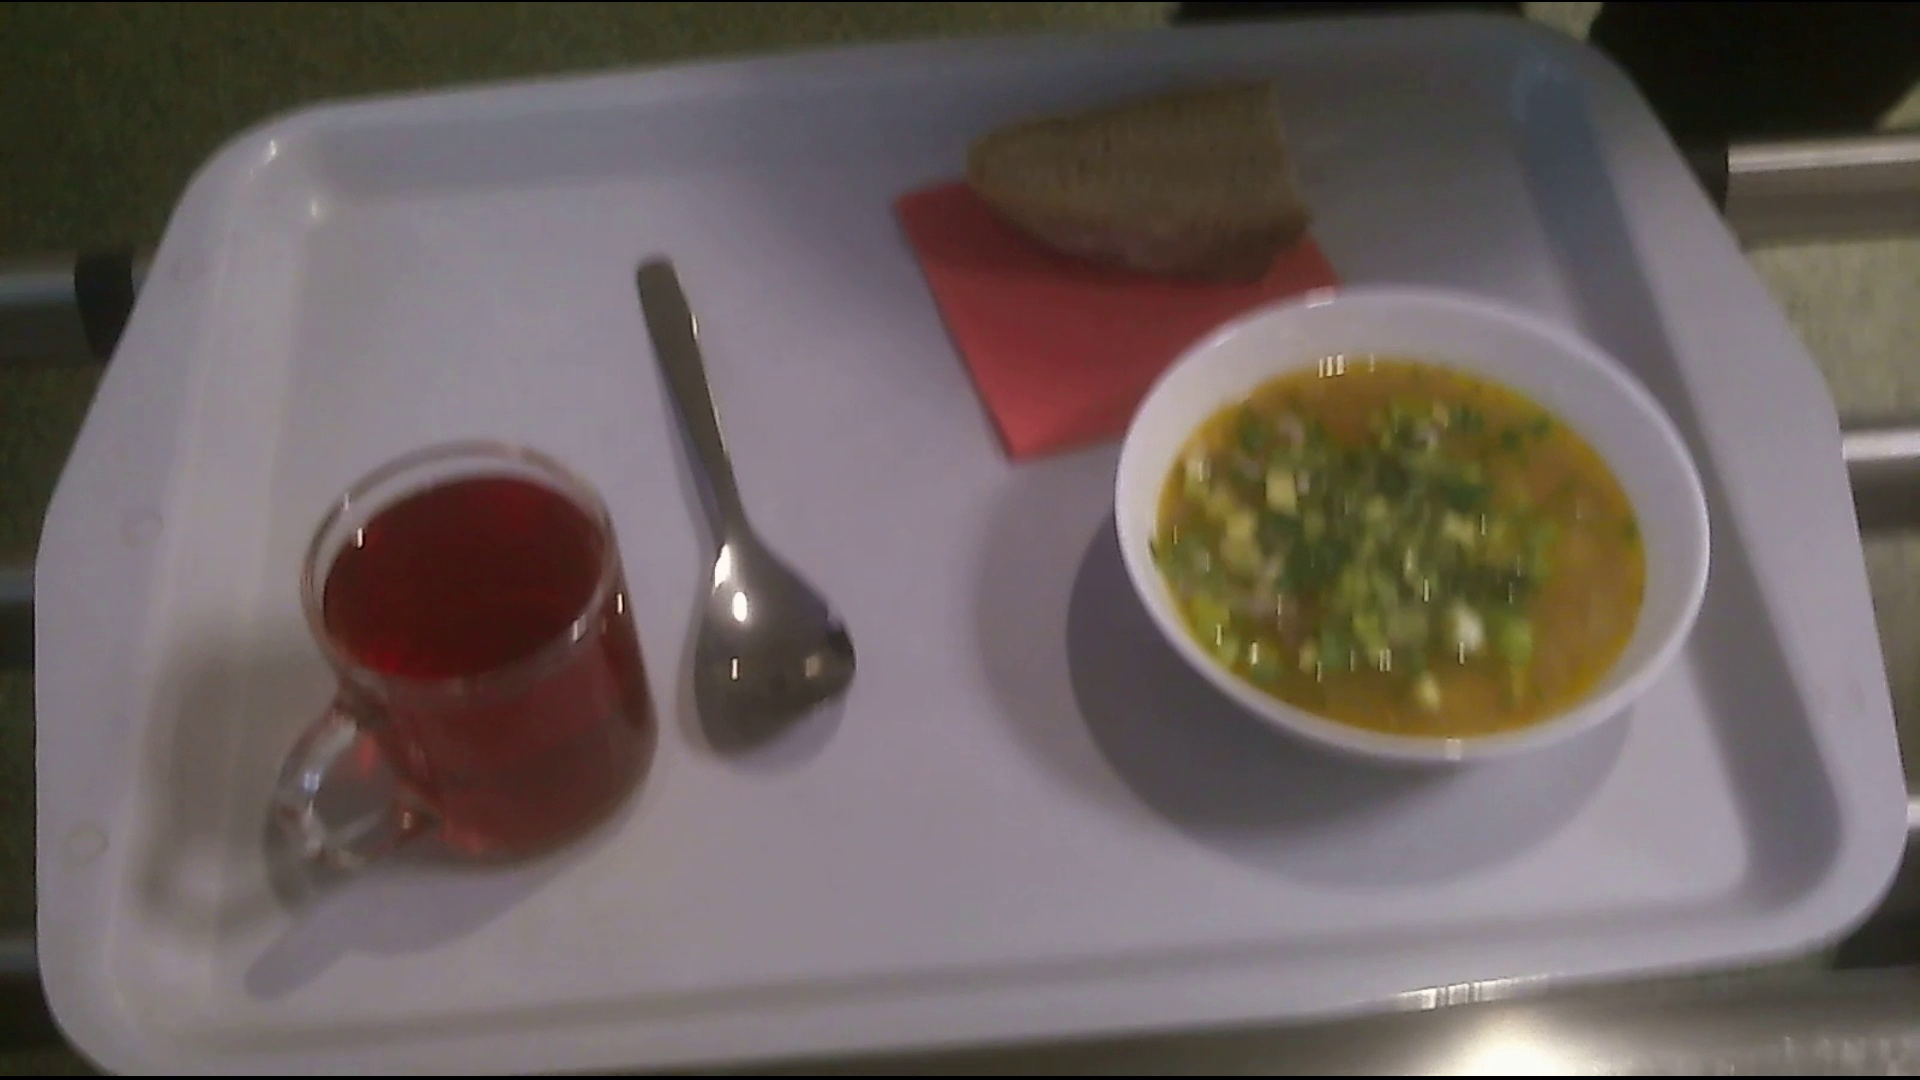bowl: (1116, 277, 1712, 791)
cutlery: (629, 247, 865, 765)
drink: (285, 436, 662, 895)
other: (960, 107, 1313, 290)
